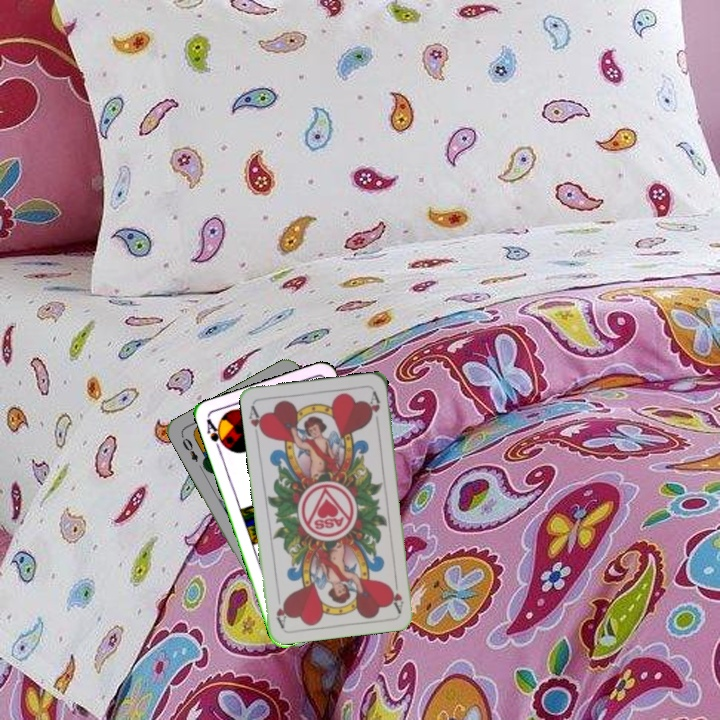EO: (177, 431, 201, 465)
HA: (245, 401, 267, 438), (387, 574, 406, 615)
SA: (202, 415, 230, 455)
